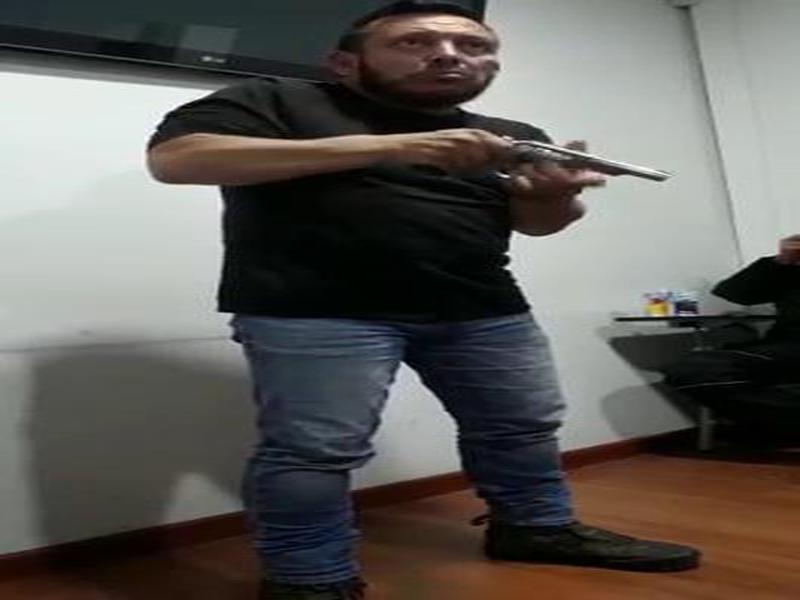Revolver: (464, 117, 676, 229)
